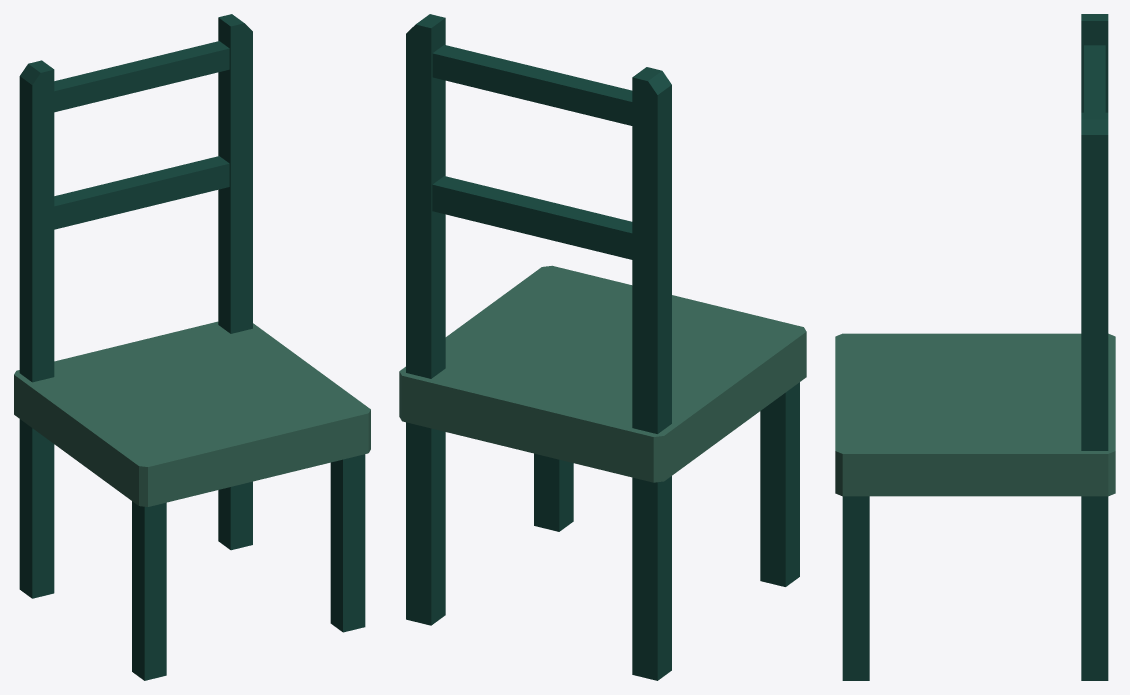
File: chair.fbx
3 views of the same model, side by side, from view 1: azimuth 30°, elevation 25°; view 2: azimuth 150°, elevation 25°; view 3: azimuth 270°, elevation 25° (orthographic). The views are drawn at different scales.
Parts seen in each view (by area): view 1: chair; view 2: chair; view 3: chair.
Part boxes in pixels (left/top/right/bottom): chair: left=14, top=14, right=370, bottom=680; chair: left=399, top=14, right=806, bottom=680; chair: left=835, top=14, right=1115, bottom=680.
Bounding box in the file's own units: 188 × 406 × 185.
Materials: 1 (1 with a texture image).
